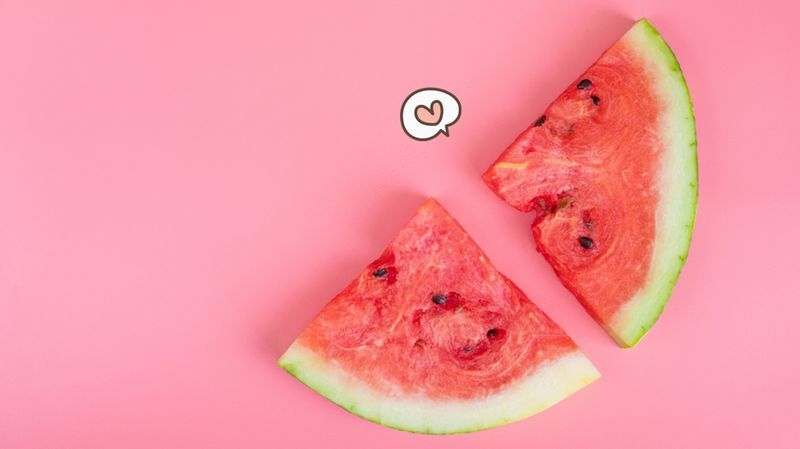Semangka: (235, 221, 623, 427), (519, 14, 728, 355)
